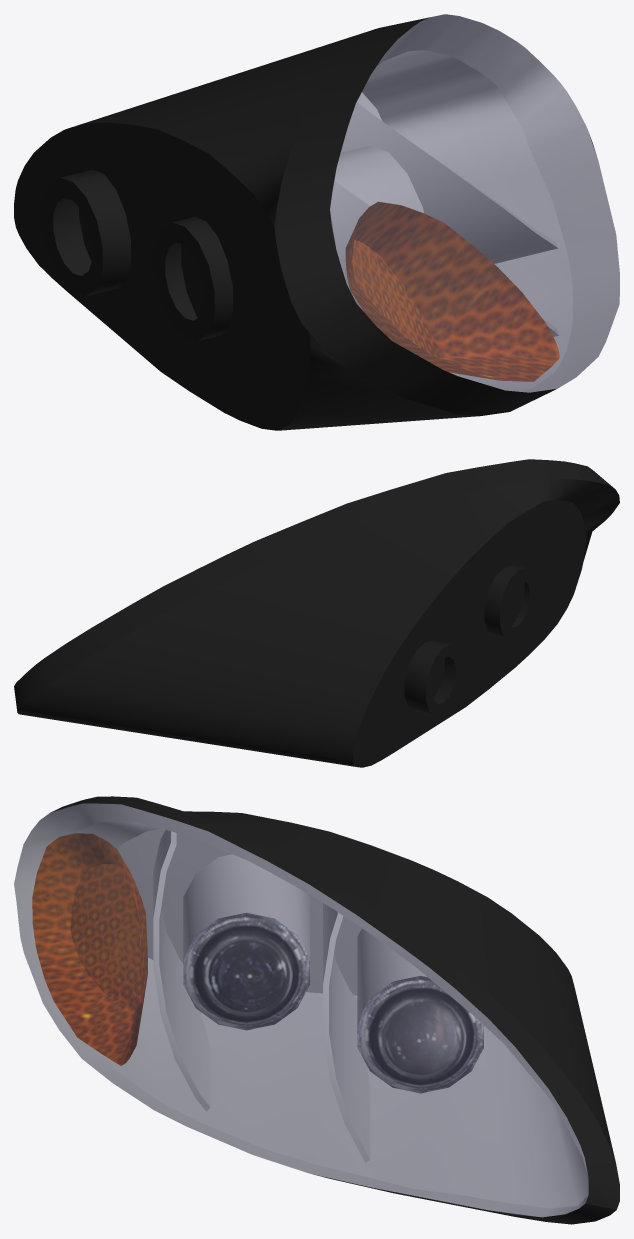
3 views of the same model, one above another, from view 1: azimuth 30°, elevation 25°; view 2: azimuth 150°, elevation 25°; view 3: azimuth 270°, elevation 25° (orthographic). The views are drawn at different scales.
Visible parts, largest first — view 1: M720_061B_R_M720_061B_R_5_D, M720_061B_R_M720_061B_R_6_DTaSI, M720_061B_R_M720_061B_R_4_DaS, M720_061B_R_M720_061B_R_3_N; view 2: M720_061B_R_M720_061B_R_5_D; view 3: M720_061B_R_M720_061B_R_6_DTaSI, M720_061B_R_M720_061B_R_4_DaS, M720_061B_R_M720_061B_R_5_D, M720_061B_R_M720_061B_R_3_N, M720_061B_R_M720_061B_R_2_N, M720_061B_R_1_N_M720_061B_R.
Part boxes in pixels (bbox=[...]): M720_061B_R_M720_061B_R_5_D: bbox=[14, 17, 595, 430]; M720_061B_R_M720_061B_R_6_DTaSI: bbox=[330, 14, 619, 392]; M720_061B_R_M720_061B_R_4_DaS: bbox=[330, 14, 619, 392]; M720_061B_R_M720_061B_R_3_N: bbox=[345, 201, 559, 381]; M720_061B_R_M720_061B_R_5_D: bbox=[14, 459, 619, 767]; M720_061B_R_M720_061B_R_6_DTaSI: bbox=[14, 803, 588, 1216]; M720_061B_R_M720_061B_R_4_DaS: bbox=[14, 803, 588, 1217]; M720_061B_R_M720_061B_R_5_D: bbox=[51, 796, 619, 1224]; M720_061B_R_M720_061B_R_3_N: bbox=[32, 833, 147, 1065]; M720_061B_R_M720_061B_R_2_N: bbox=[183, 912, 309, 1030]; M720_061B_R_1_N_M720_061B_R: bbox=[357, 976, 483, 1093].
Bounding box in the file's own units: 41.23 × 20.07 × 45.92.
